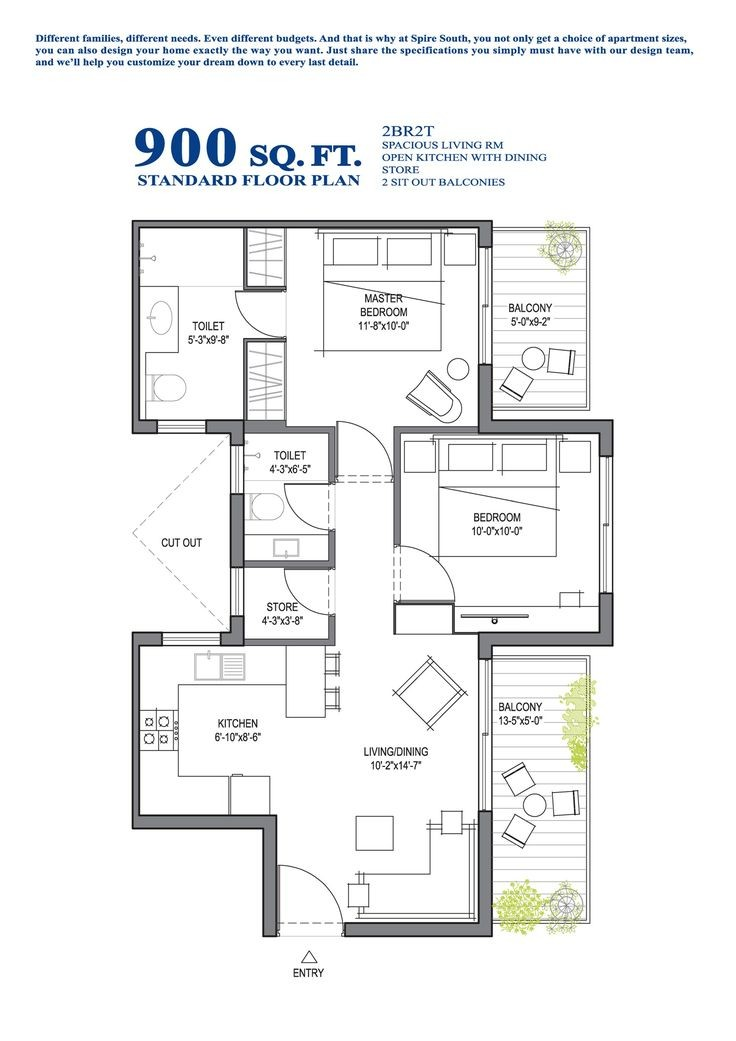door: (281, 861, 339, 926), (334, 415, 391, 478), (401, 545, 460, 601), (230, 288, 286, 339), (281, 570, 334, 613), (282, 481, 327, 525)
room: (227, 435, 612, 644), (283, 644, 489, 935), (284, 226, 491, 433), (133, 629, 331, 832), (139, 226, 284, 436)
wall: (135, 214, 492, 230), (134, 809, 282, 841), (480, 408, 615, 439), (130, 219, 144, 433), (130, 629, 144, 831), (259, 818, 280, 932), (478, 633, 616, 647), (479, 808, 493, 933), (346, 926, 494, 937), (211, 412, 278, 435), (476, 358, 495, 428), (247, 559, 336, 573), (232, 492, 247, 567), (394, 430, 403, 545), (240, 637, 337, 645)
window: (598, 454, 619, 595), (477, 243, 494, 362), (161, 626, 227, 645), (226, 568, 248, 618), (226, 439, 245, 491), (157, 417, 209, 435)
